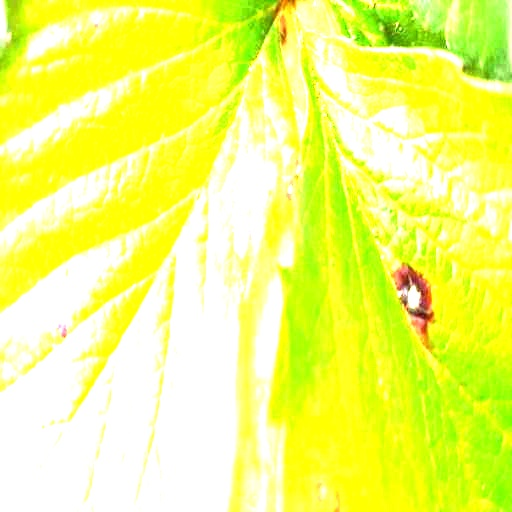Leaf Spot: (0, 0, 301, 511), (267, 25, 511, 511)
